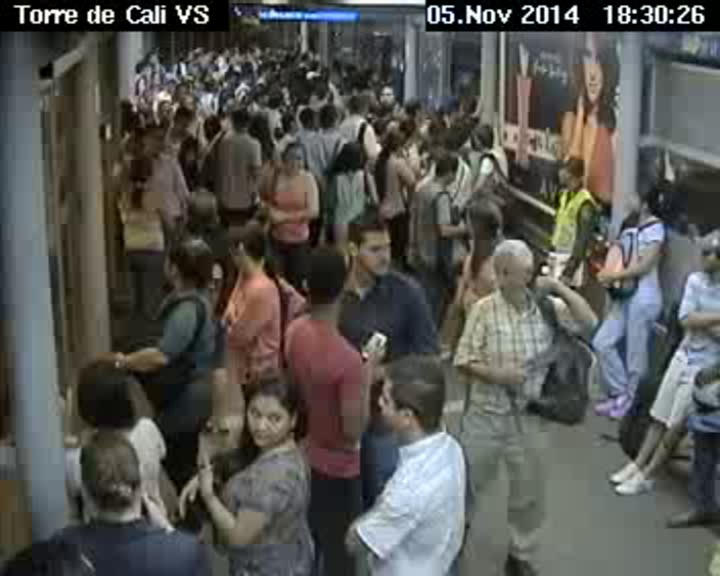person: (66, 428, 145, 511), (373, 354, 443, 438), (62, 358, 132, 426), (295, 237, 353, 319), (239, 379, 303, 447), (484, 237, 541, 301), (341, 213, 394, 272), (220, 215, 269, 276), (158, 238, 214, 290), (461, 197, 507, 246), (182, 182, 221, 229), (627, 180, 664, 222), (122, 150, 158, 193), (689, 222, 720, 271), (554, 153, 586, 193), (281, 144, 312, 180), (432, 152, 463, 186), (339, 135, 367, 168), (133, 125, 161, 157), (471, 122, 497, 153), (346, 93, 373, 121), (154, 95, 177, 126), (383, 129, 406, 158), (201, 112, 221, 144), (317, 103, 339, 129), (460, 80, 476, 114), (375, 83, 396, 108), (279, 108, 299, 133), (230, 102, 249, 128), (405, 95, 424, 121), (178, 91, 197, 112)
